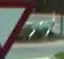Give way: (0, 0, 37, 57)
